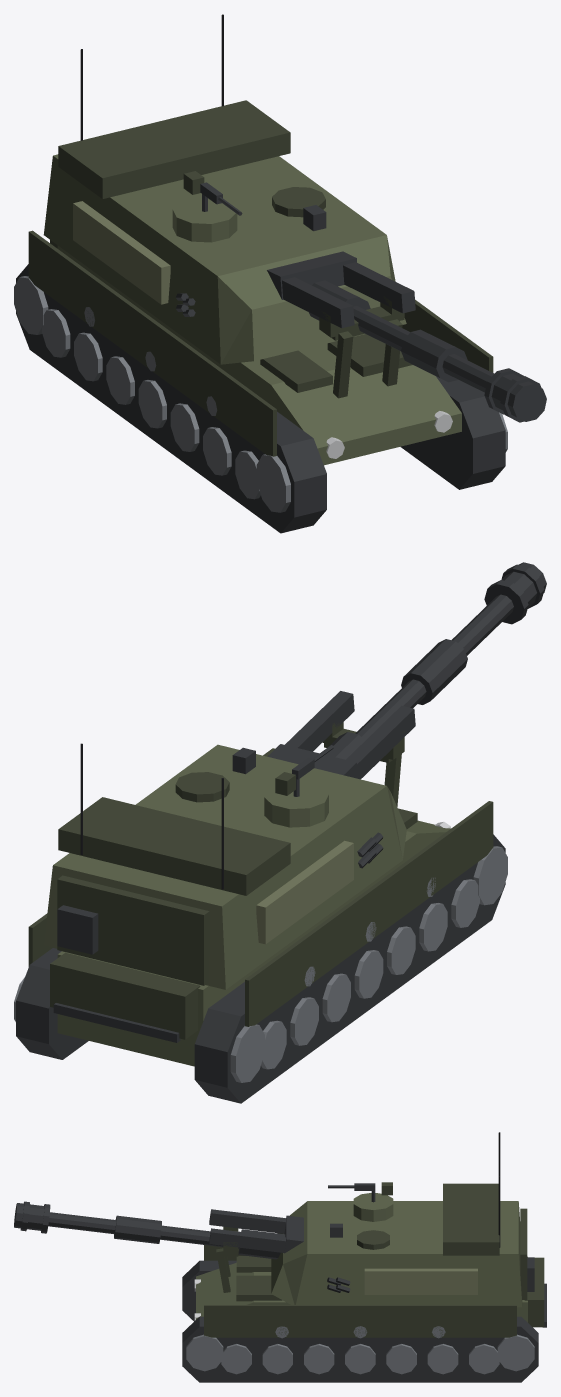
File: Unit_Artillery.obj
The picture shows the model from 3 angles, top to bottom: view 1: azimuth 30°, elevation 25°; view 2: azimuth 150°, elevation 25°; view 3: azimuth 270°, elevation 25°; orthographic projection. The views are drawn at different scales.
Bounding box in the file's own units: 3.78 × 4.95 × 12.26.
